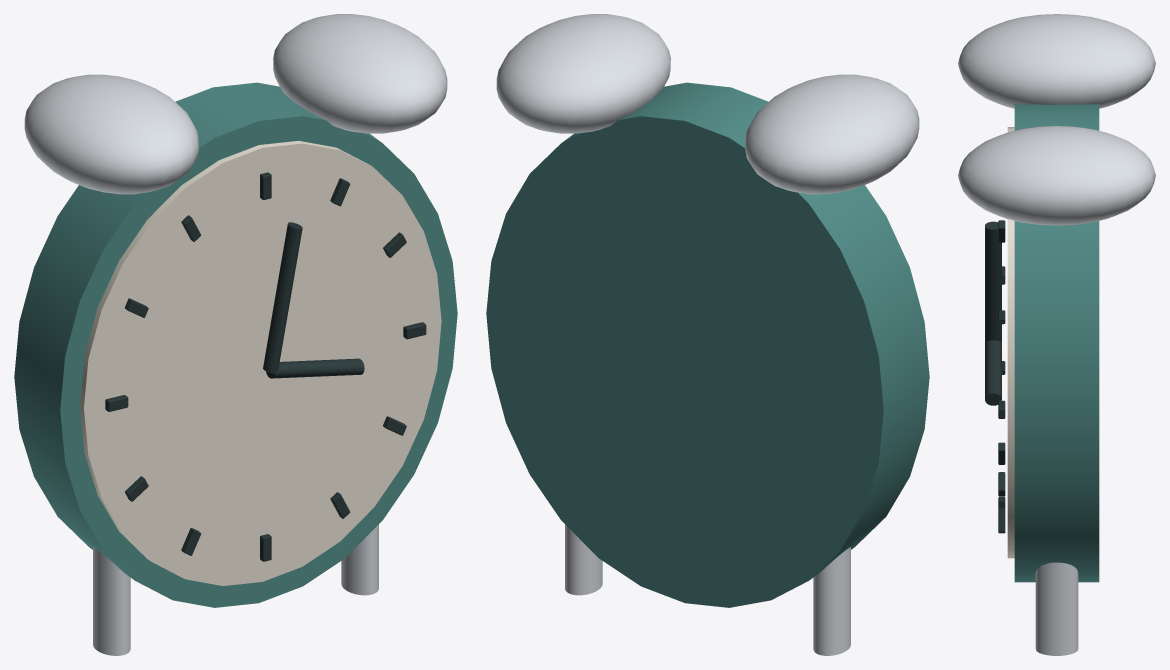
File: wp-reveil-a-cloches.glb
3 views of the same model, side by side, from view 1: azimuth 30°, elevation 25°; view 2: azimuth 150°, elevation 25°; view 3: azimuth 270°, elevation 25° (orthographic). The views are drawn at different scales.
Visible parts, largest first — view 1: wp-reveil-a-cloches; view 2: wp-reveil-a-cloches; view 3: wp-reveil-a-cloches.
Boxes of the visible parts, <box> form: wp-reveil-a-cloches: <box>14,14,457,655</box>; wp-reveil-a-cloches: <box>486,14,929,655</box>; wp-reveil-a-cloches: <box>958,14,1155,655</box>.
Bounding box in the file's own units: 0.15 × 0.2 × 0.07.
